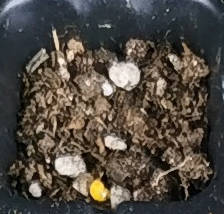chilli seed: (89, 178, 110, 201)
